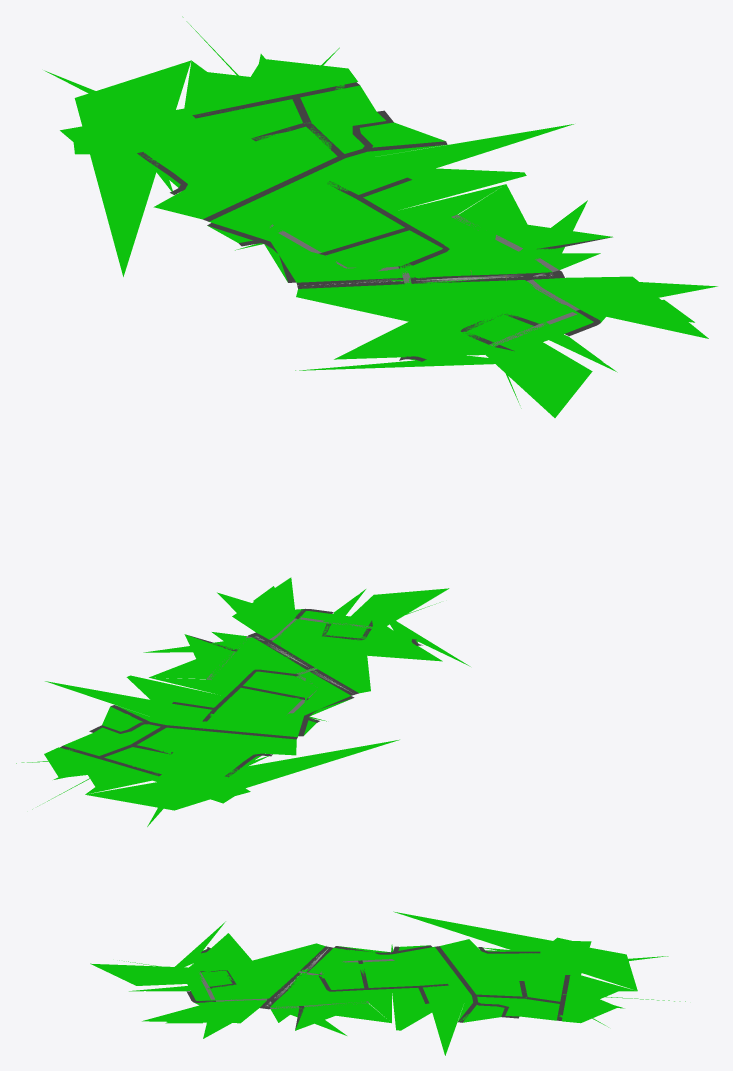
3 views of the same model, one above another, from view 1: azimuth 30°, elevation 25°; view 2: azimuth 150°, elevation 25°; view 3: azimuth 270°, elevation 25° (orthographic). The views are drawn at different scales.
Bounding box in the file's own units: 362 × 3 × 560.
